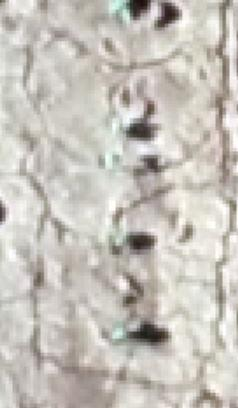cotton: (110, 1, 129, 21), (114, 323, 126, 341), (111, 233, 127, 245), (113, 118, 125, 133)
